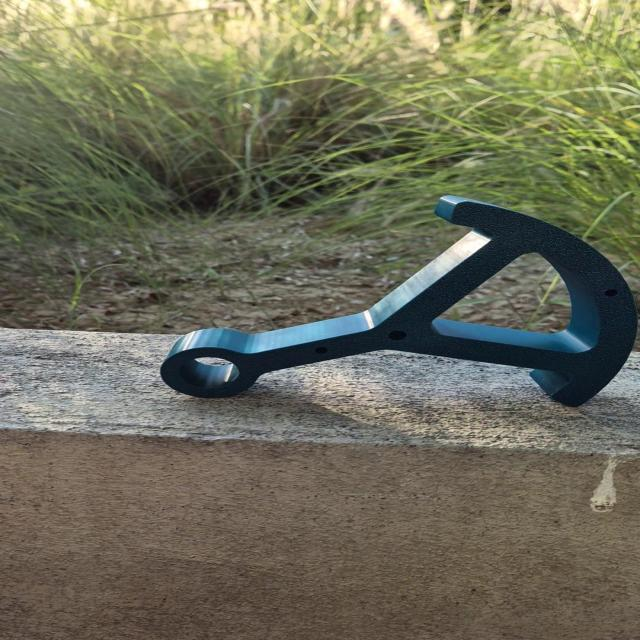haptic: (157, 194, 638, 408)
